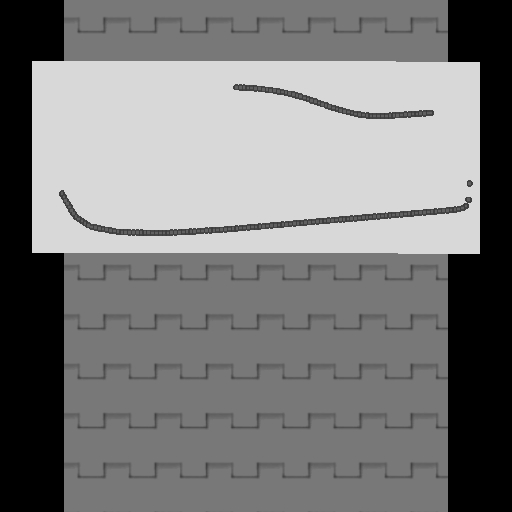Defect: (58, 78, 230, 191)
